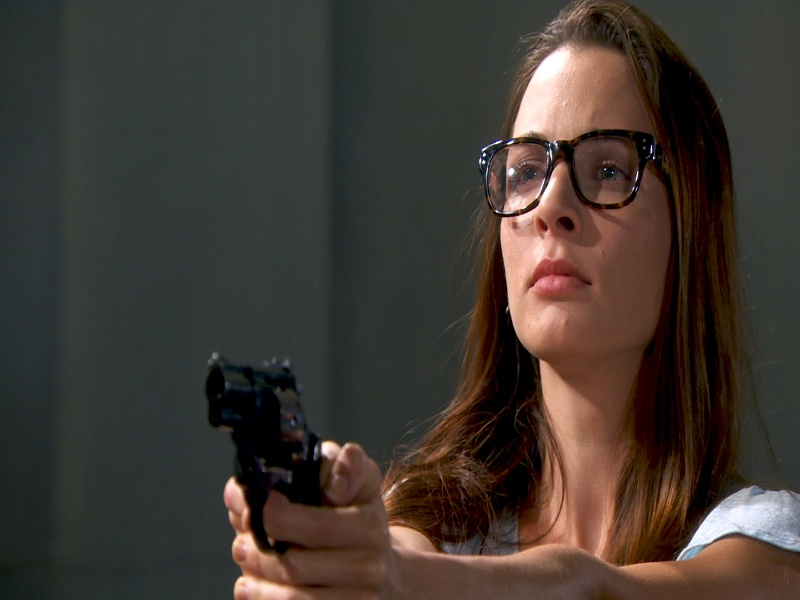gun: (200, 350, 333, 572)
